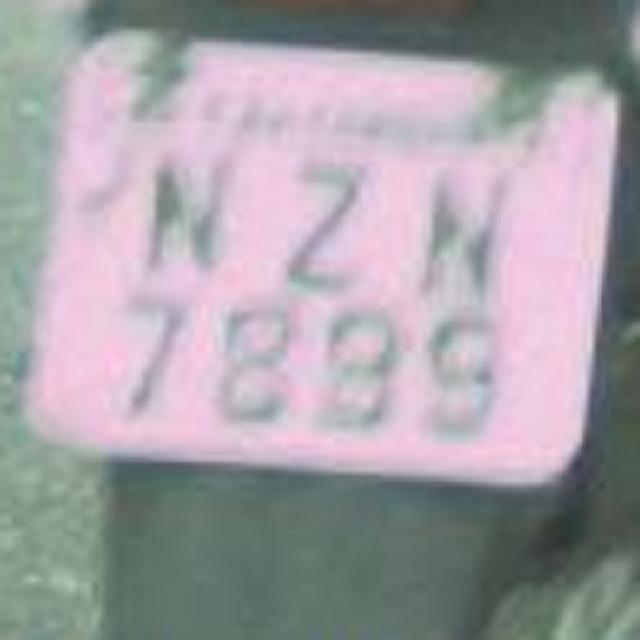7: (96, 300, 204, 435)
8: (191, 296, 324, 432), (295, 300, 420, 435)
N: (116, 148, 232, 300), (396, 140, 509, 295)
Z: (248, 160, 380, 292)
